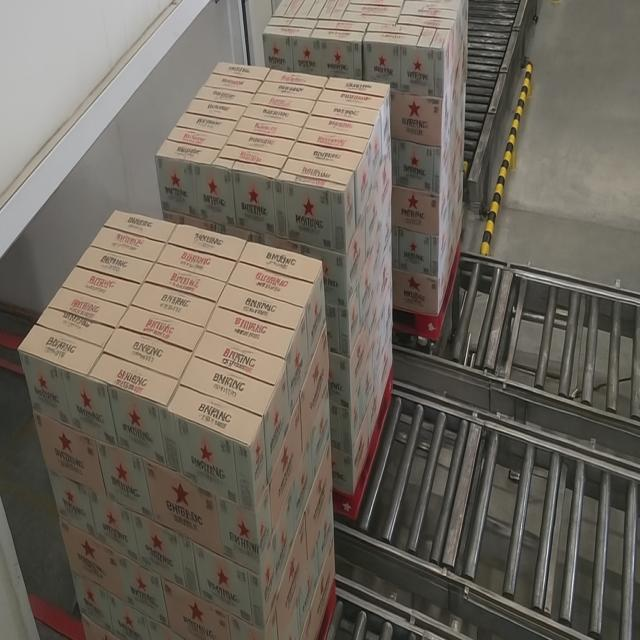pallet: (16, 190, 339, 640), (155, 59, 401, 523), (263, 0, 466, 346)
